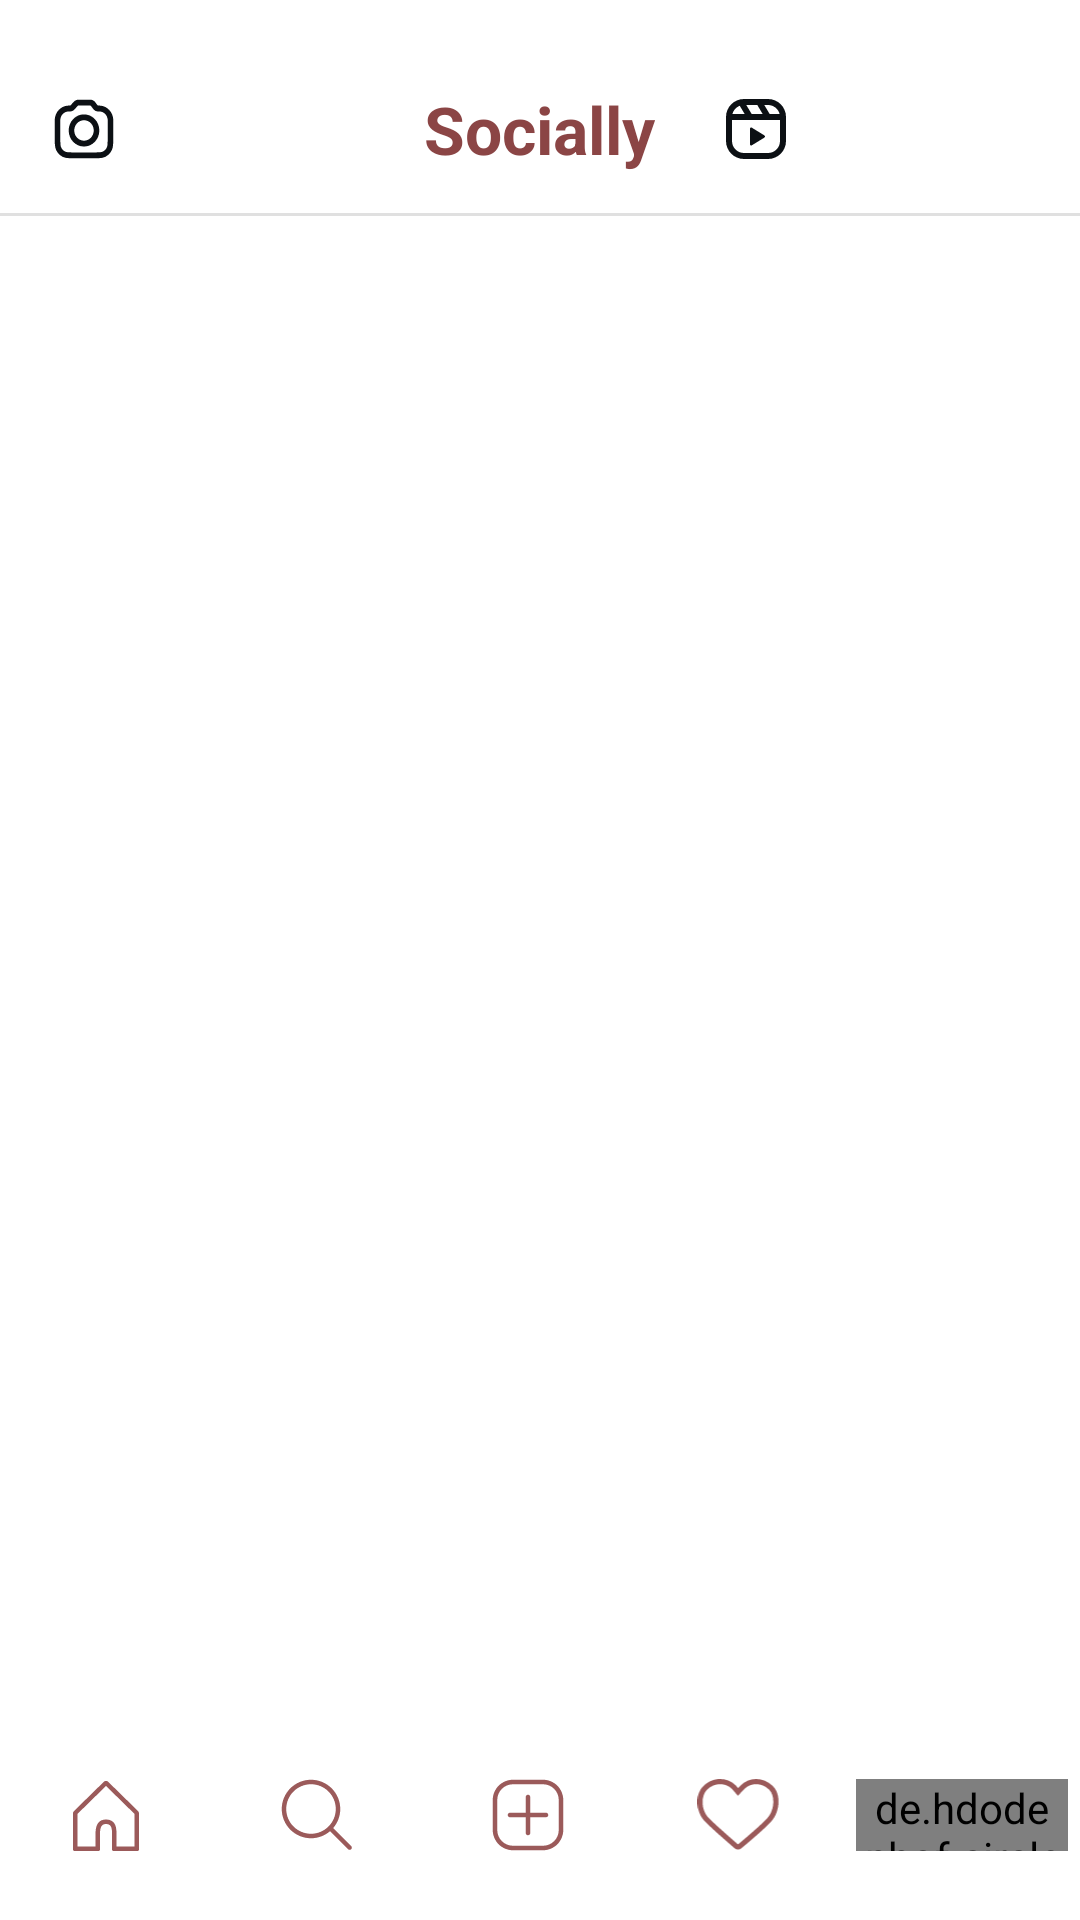

Named icons in this screenshot (1080px×1920px) and their centers, (x=x, y=y):
camera: (x=84, y=129)
home: (x=106, y=1816)
like: (x=738, y=1814)
post: (x=528, y=1815)
search: (x=316, y=1814)
